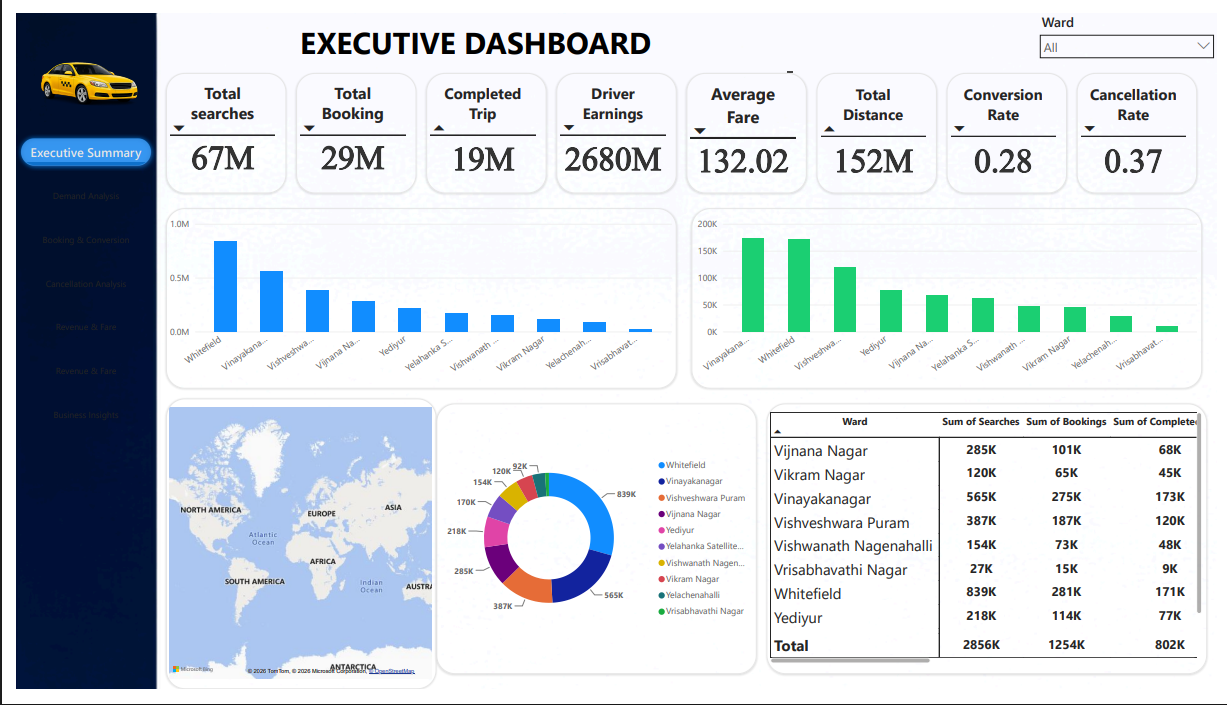

Layout of this report page (visuals, bound fields, positions):
{"tool":"powerbi","page":{"name":"Executive Summary","canvas":[1920,1080],"ordinal":0},"visuals":[{"type":"textbox","title":"EXECUTIVE DASHBOARD","box":[224,0,1024,96],"z":0},{"type":"tableEx","fields":{"Values":["cleaned_driver_data.Total searches"]},"box":[240,96,192,192],"z":1000},{"type":"tableEx","fields":{"Values":["cleaned_driver_data.total Booking"]},"box":[448,96,192,192],"z":2000},{"type":"tableEx","fields":{"Values":["cleaned_driver_data.Completed Trip"]},"box":[656,96,192,192],"z":3000},{"type":"tableEx","fields":{"Values":["cleaned_driver_data.Driver Earnings"]},"box":[864,96,192,192],"z":4000},{"type":"tableEx","fields":{"Values":["cleaned_driver_data.Average Fare"]},"box":[1072,96,192,192],"z":5000},{"type":"tableEx","fields":{"Values":["cleaned_driver_data.Total Distance"]},"box":[1280,96,192,192],"z":6000},{"type":"tableEx","fields":{"Values":["cleaned_driver_data.Conversion"]},"box":[1488,96,192,192],"z":7000},{"type":"tableEx","fields":{"Values":["cleaned_driver_data.Cancellation Rate"]},"box":[1696,96,192,192],"z":8000},{"type":"clusteredColumnChart","fields":{"Category":["cleaned_driver_data.Ward"],"Y":["Sum(cleaned_driver_data.Completed Trips)"]},"box":[1080,312,816,288],"z":9000},{"type":"clusteredColumnChart","fields":{"Category":["cleaned_driver_data.Ward"],"Y":["cleaned_driver_data.Total searches"]},"box":[240,312,816,288],"z":10000},{"type":"donutChart","fields":{"Category":["cleaned_driver_data.Ward"],"Y":["Avg(cleaned_driver_data.Searches)"]},"box":[672,624,512,432],"z":11000},{"type":"pageNavigator","box":[0,192,224,480],"z":12000},{"type":"pivotTable","fields":{"Rows":["cleaned_driver_data.Ward"],"Values":["Sum(cleaned_driver_data.Searches)","Sum(cleaned_driver_data.Bookings)","Sum(cleaned_driver_data.Completed Trips)","Sum(cleaned_driver_data.Conversion R)","Sum(cleaned_driver_data.Distance Travelled (km))","Sum(cleaned_driver_data.Cancelled Bookings)"]},"box":[1200,624,704,432],"z":13000},{"type":"slicer","fields":{"Values":["cleaned_driver_data.Ward"]},"box":[1632,0,288,96],"z":14000},{"type":"filledMap","fields":{"Category":["cleaned_driver_data.Ward"]},"box":[240,616,432,464],"z":15000},{"type":"image","box":[0,0,288,192],"z":15001}]}

Visuals, with their boxes in screenshot pixels (x1, y1, x2, y2), scaled from the page's 1920x1080 canvas onto the 1227x705 screenshot:
"EXECUTIVE DASHBOARD" textbox: (x1=143, y1=0, x2=798, y2=63)
tableEx - cleaned_driver_data.Total searches: (x1=153, y1=63, x2=276, y2=188)
tableEx - cleaned_driver_data.total Booking: (x1=286, y1=63, x2=409, y2=188)
tableEx - cleaned_driver_data.Completed Trip: (x1=419, y1=63, x2=542, y2=188)
tableEx - cleaned_driver_data.Driver Earnings: (x1=552, y1=63, x2=675, y2=188)
tableEx - cleaned_driver_data.Average Fare: (x1=685, y1=63, x2=808, y2=188)
tableEx - cleaned_driver_data.Total Distance: (x1=818, y1=63, x2=941, y2=188)
tableEx - cleaned_driver_data.Conversion: (x1=951, y1=63, x2=1074, y2=188)
tableEx - cleaned_driver_data.Cancellation Rate: (x1=1084, y1=63, x2=1207, y2=188)
clusteredColumnChart - cleaned_driver_data.Ward x Sum(cleaned_driver_data.Completed Trips): (x1=690, y1=204, x2=1212, y2=392)
clusteredColumnChart - cleaned_driver_data.Ward x cleaned_driver_data.Total searches: (x1=153, y1=204, x2=675, y2=392)
donutChart - cleaned_driver_data.Ward x Avg(cleaned_driver_data.Searches): (x1=429, y1=407, x2=757, y2=689)
pageNavigator: (x1=0, y1=125, x2=143, y2=439)
pivotTable - cleaned_driver_data.Ward x Sum(cleaned_driver_data.Searches): (x1=767, y1=407, x2=1217, y2=689)
slicer - cleaned_driver_data.Ward: (x1=1043, y1=0, x2=1226, y2=63)
filledMap - cleaned_driver_data.Ward: (x1=153, y1=402, x2=429, y2=704)
image: (x1=0, y1=0, x2=184, y2=125)
